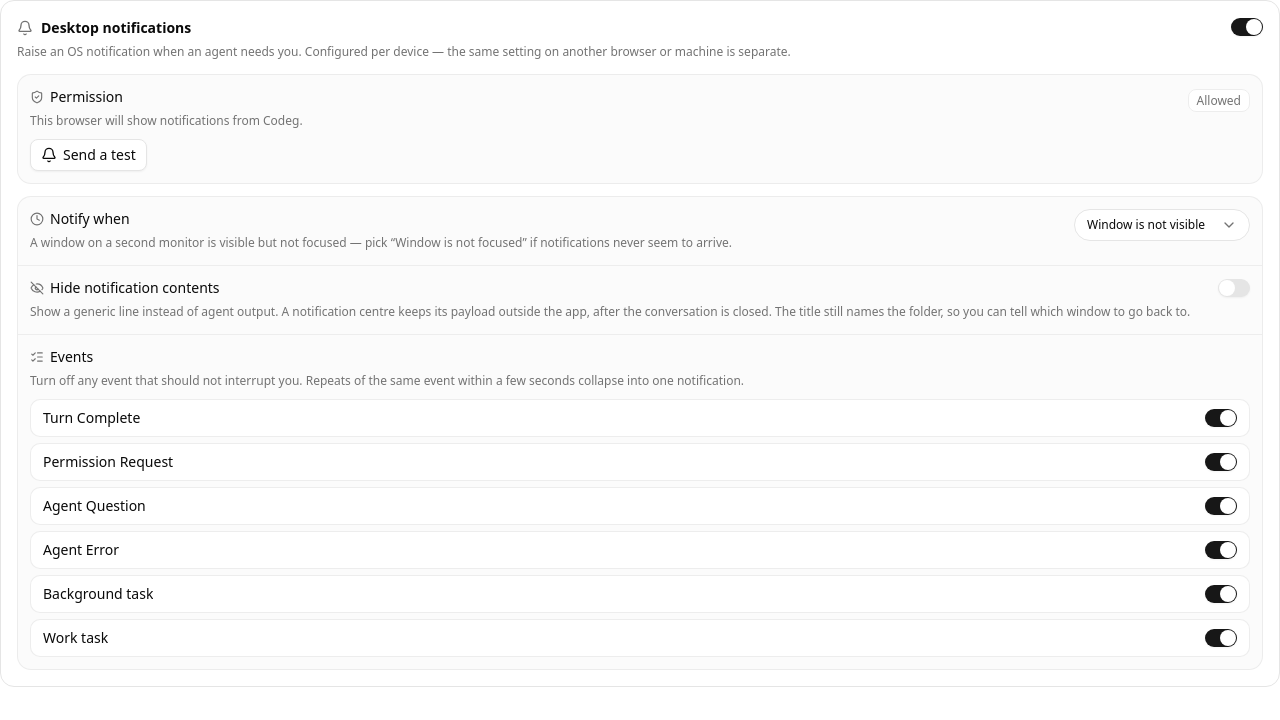
Test: DesktopNotificationSettingsSection › collapses to the master switch when turned off
Click the switch named "desktop notifications" in the row of "Desktop notifications".
click(1247, 27)  # box x1=1231 y1=18 x2=1263 y2=36
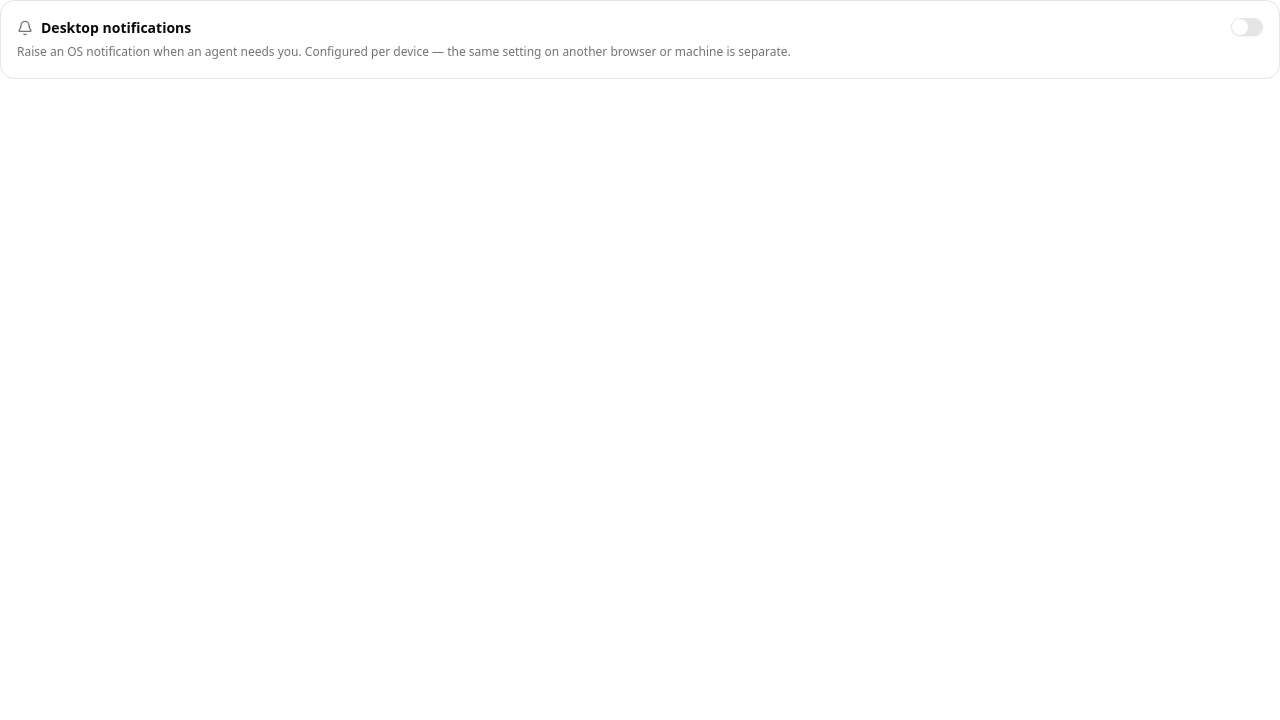
Expected: the number of switches is 1, x1=1231 y1=18 x2=1263 y2=36
Expected: the text "Turn Complete" is gone
